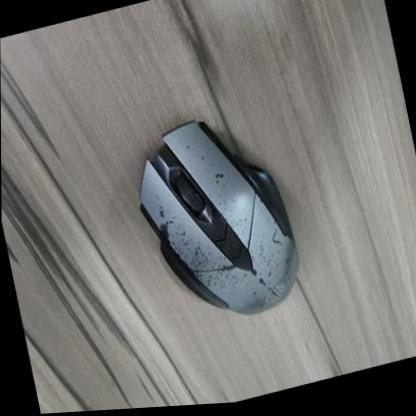mouserotation: (121, 102, 306, 342)
